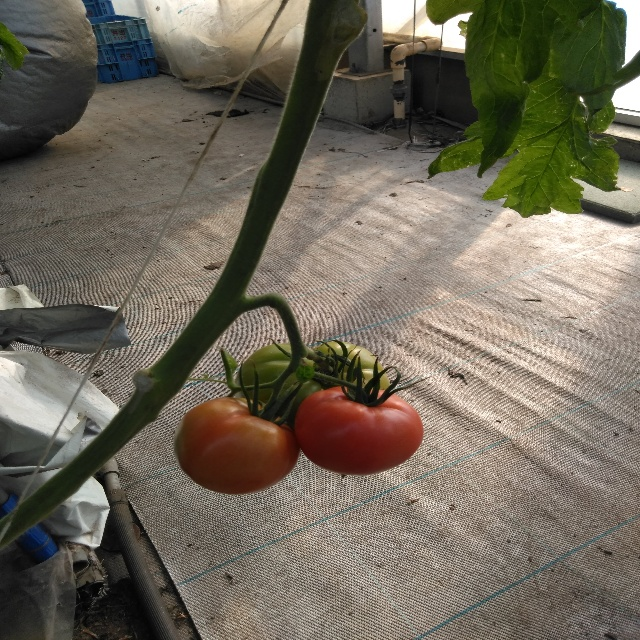b_fully_ripened: (294, 385, 424, 476)
b_green: (234, 341, 389, 432)
b_half_ripened: (174, 397, 303, 494)
